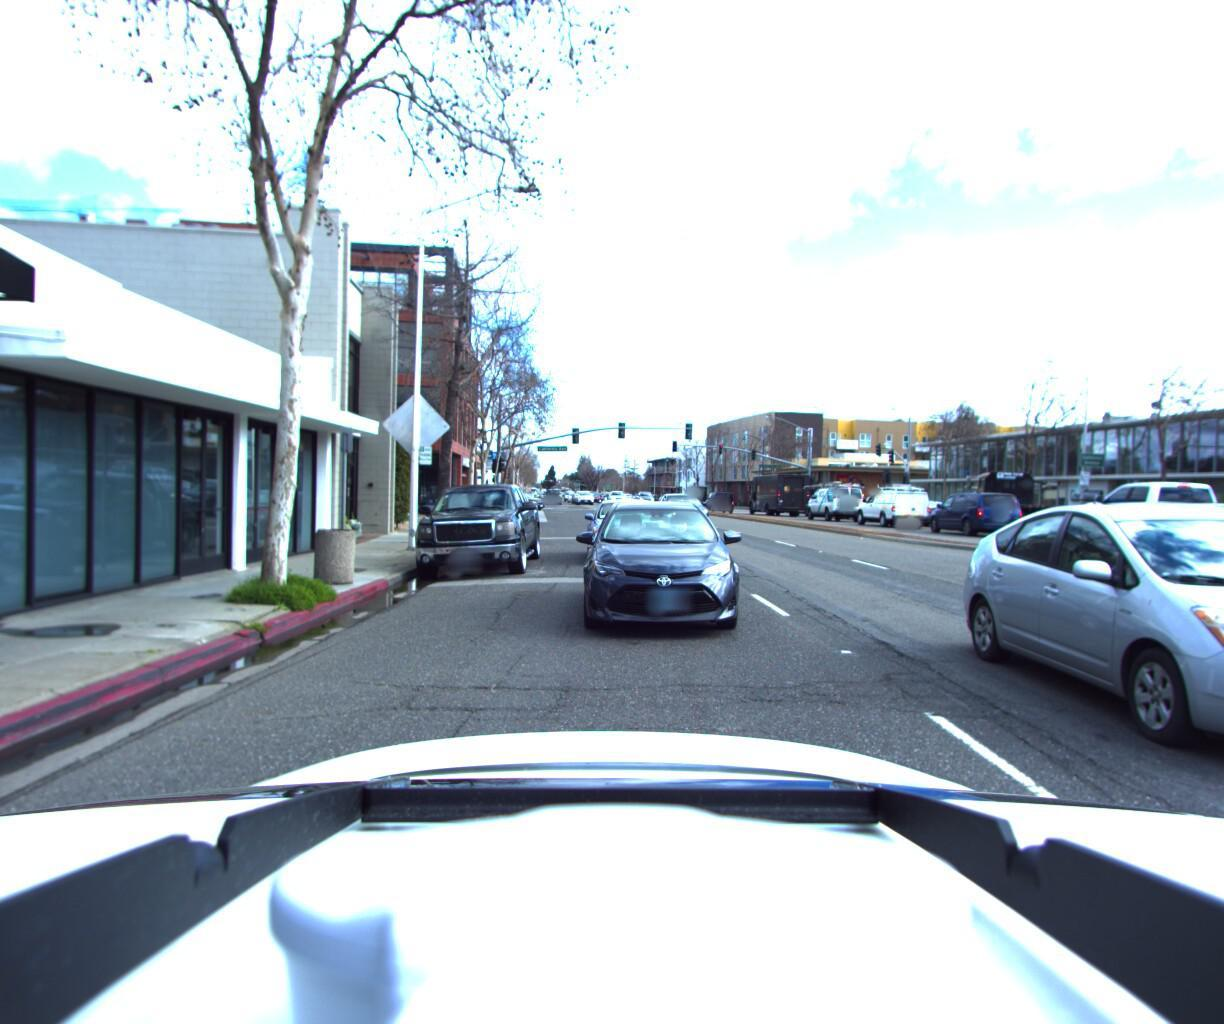car: (958, 494, 1224, 841), (573, 497, 755, 661), (1056, 480, 1224, 573), (407, 479, 546, 589), (591, 497, 675, 574), (927, 493, 1033, 543), (857, 485, 935, 532), (804, 485, 868, 524), (658, 493, 717, 533), (701, 492, 739, 514)
truck: (944, 470, 1113, 543), (744, 477, 816, 522)
